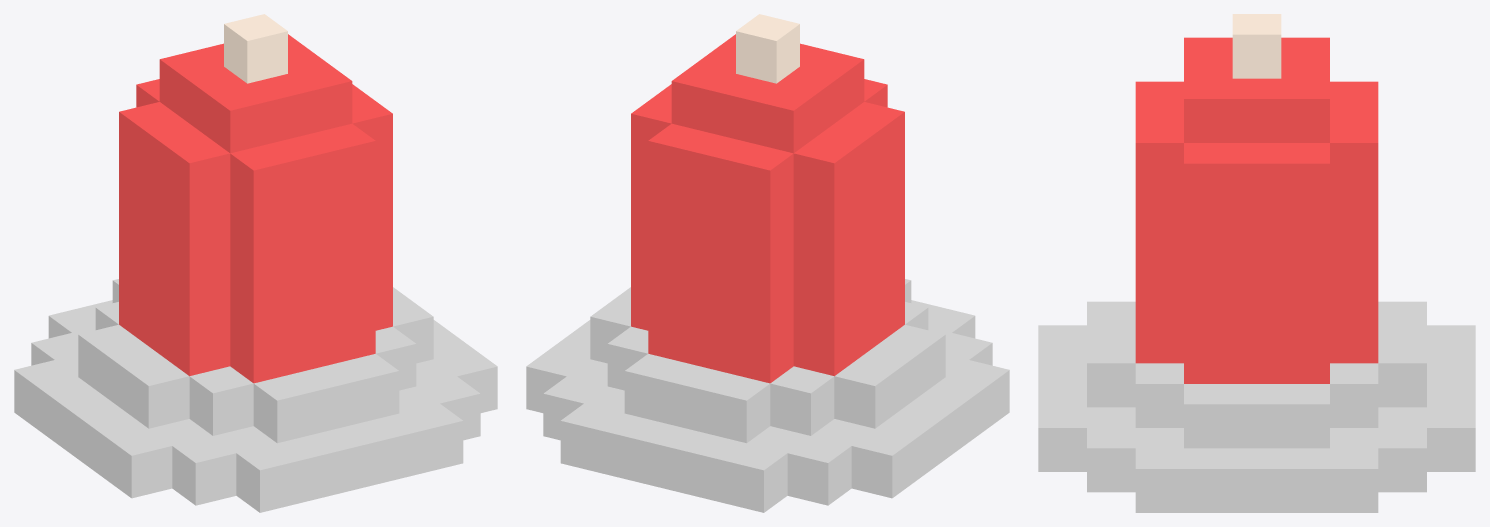
File: 警报器.gltf
3 renders of one model, left to right at view 1: azimuth 30°, elevation 25°; view 2: azimuth 150°, elevation 25°; view 3: azimuth 270°, elevation 25°, orthographic. The views are drawn at different scales.
Parts seen in each view (by area): view 1: Object; view 2: Object; view 3: Object.
Part boxes in pixels (box(x1,y1,x2,y2)): Object: box(14, 14, 497, 512); Object: box(526, 14, 1009, 512); Object: box(1038, 14, 1475, 512).
Size of the model in its own units: 9 by 9 by 9.
Materials: 1 (1 with a texture image).
